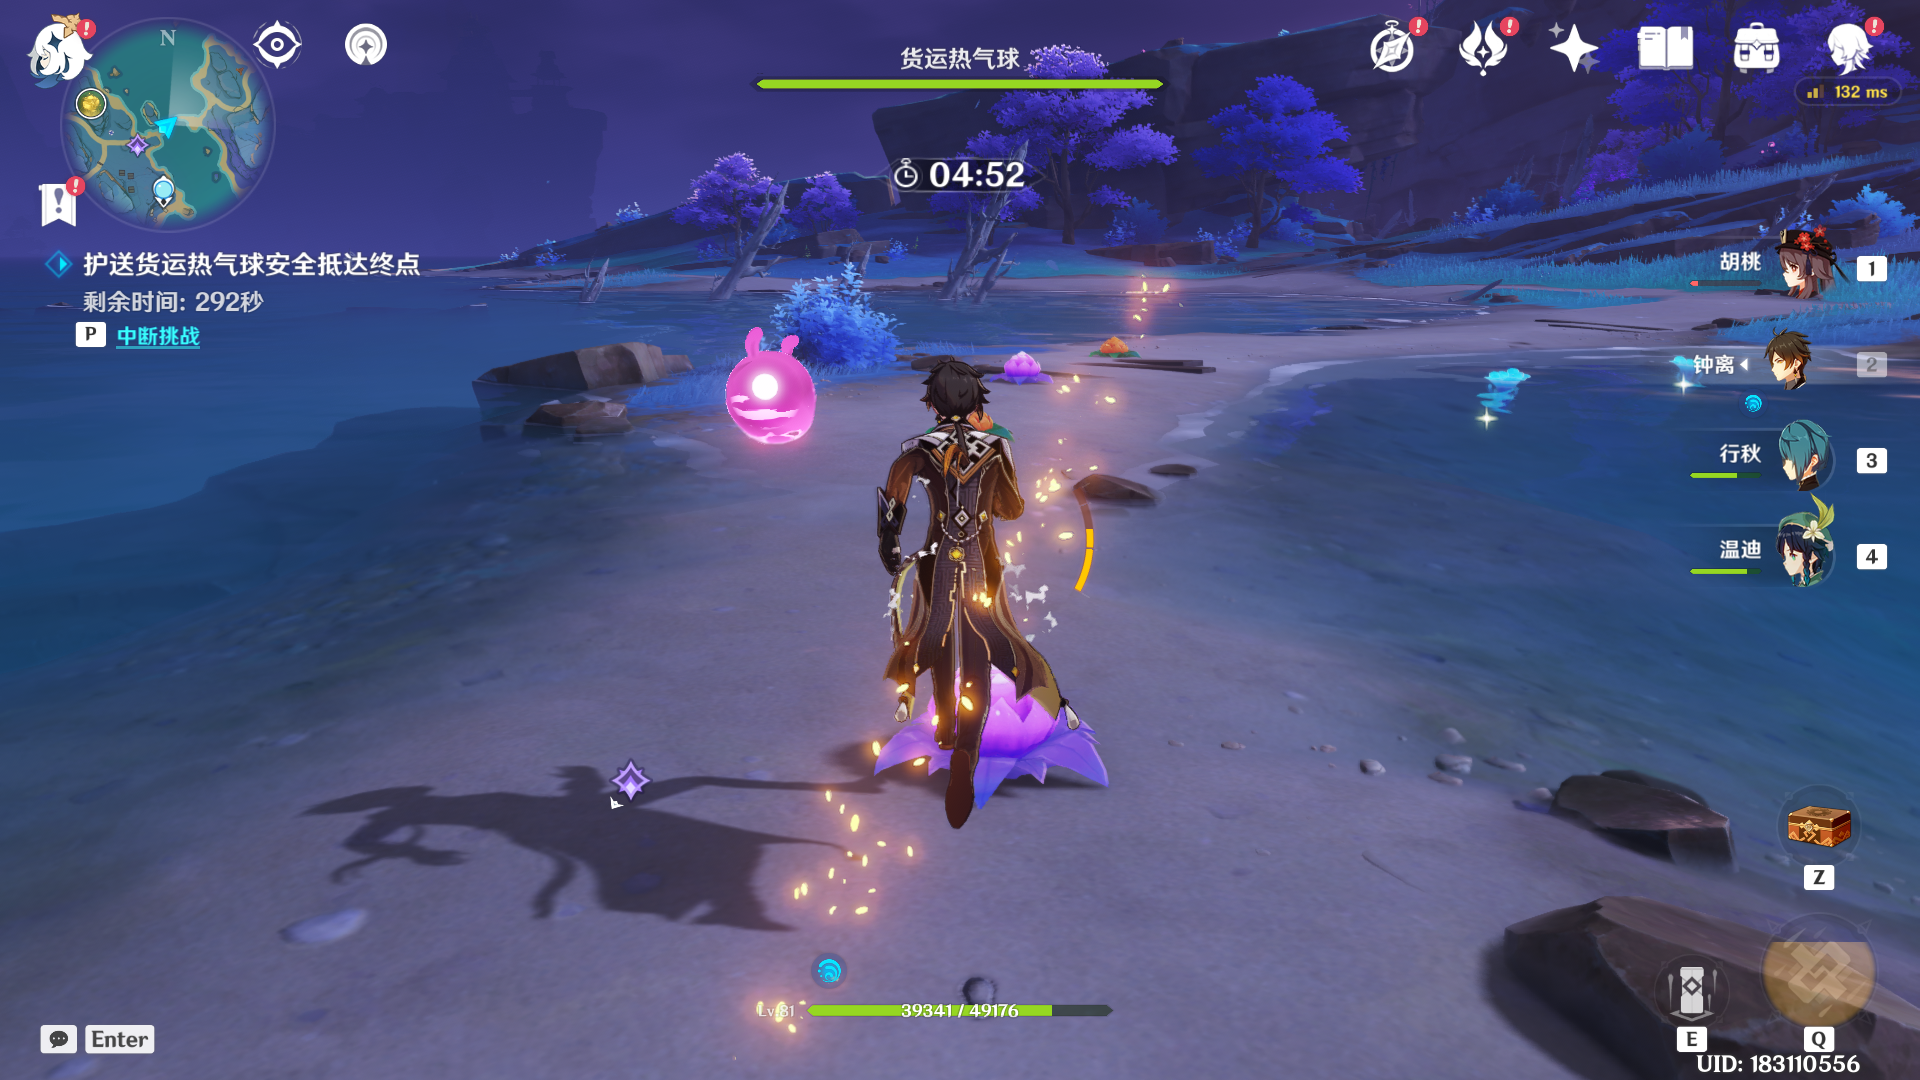character: (825, 324, 1130, 866)
